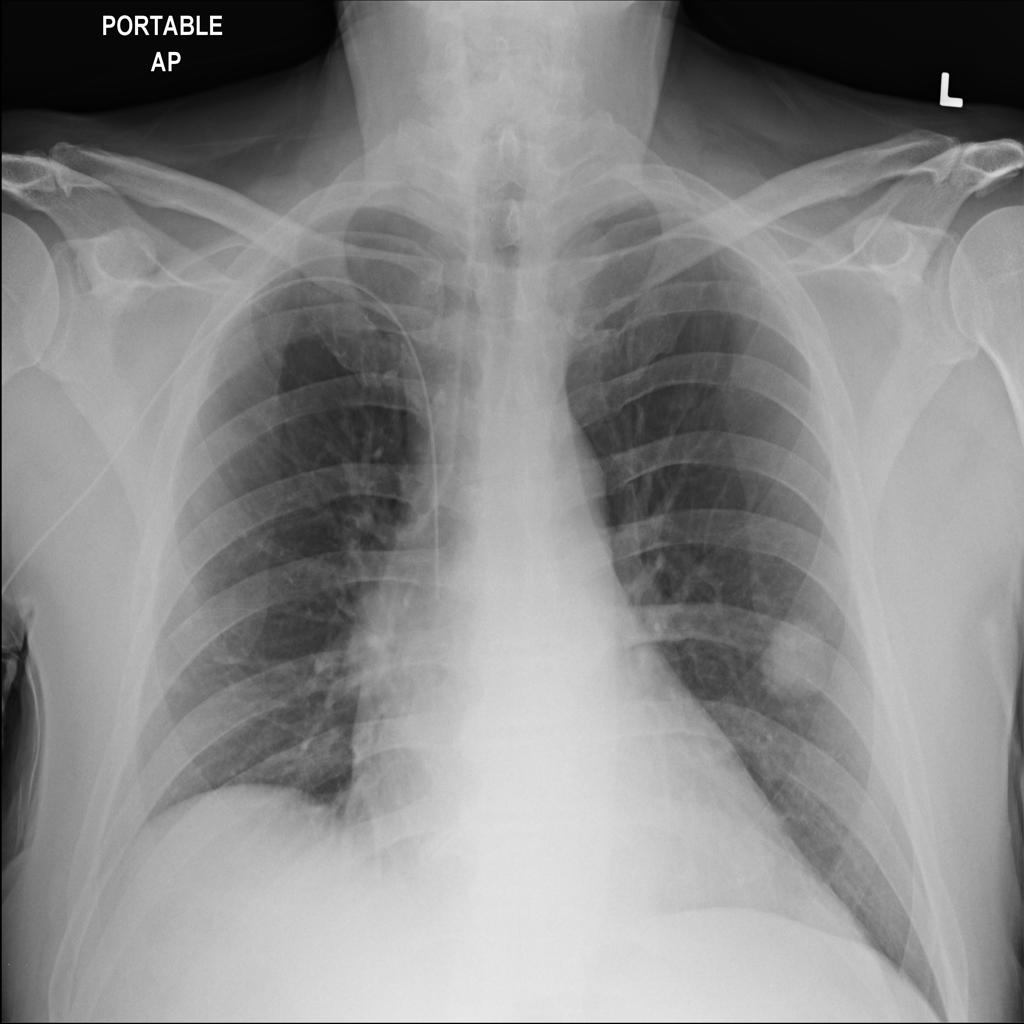nodule: (744, 598, 850, 721)
